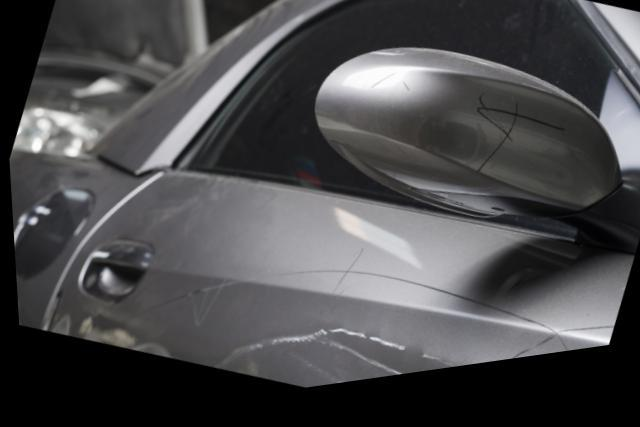dent: (211, 338, 448, 396)
